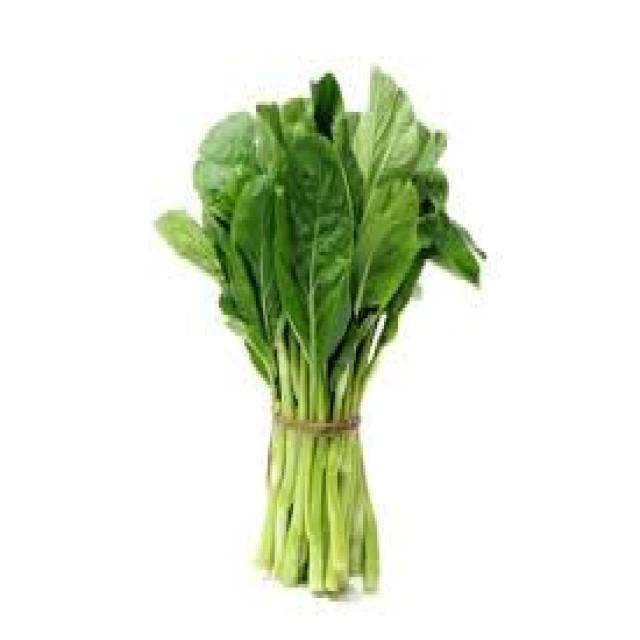spinach: (154, 62, 486, 619)
